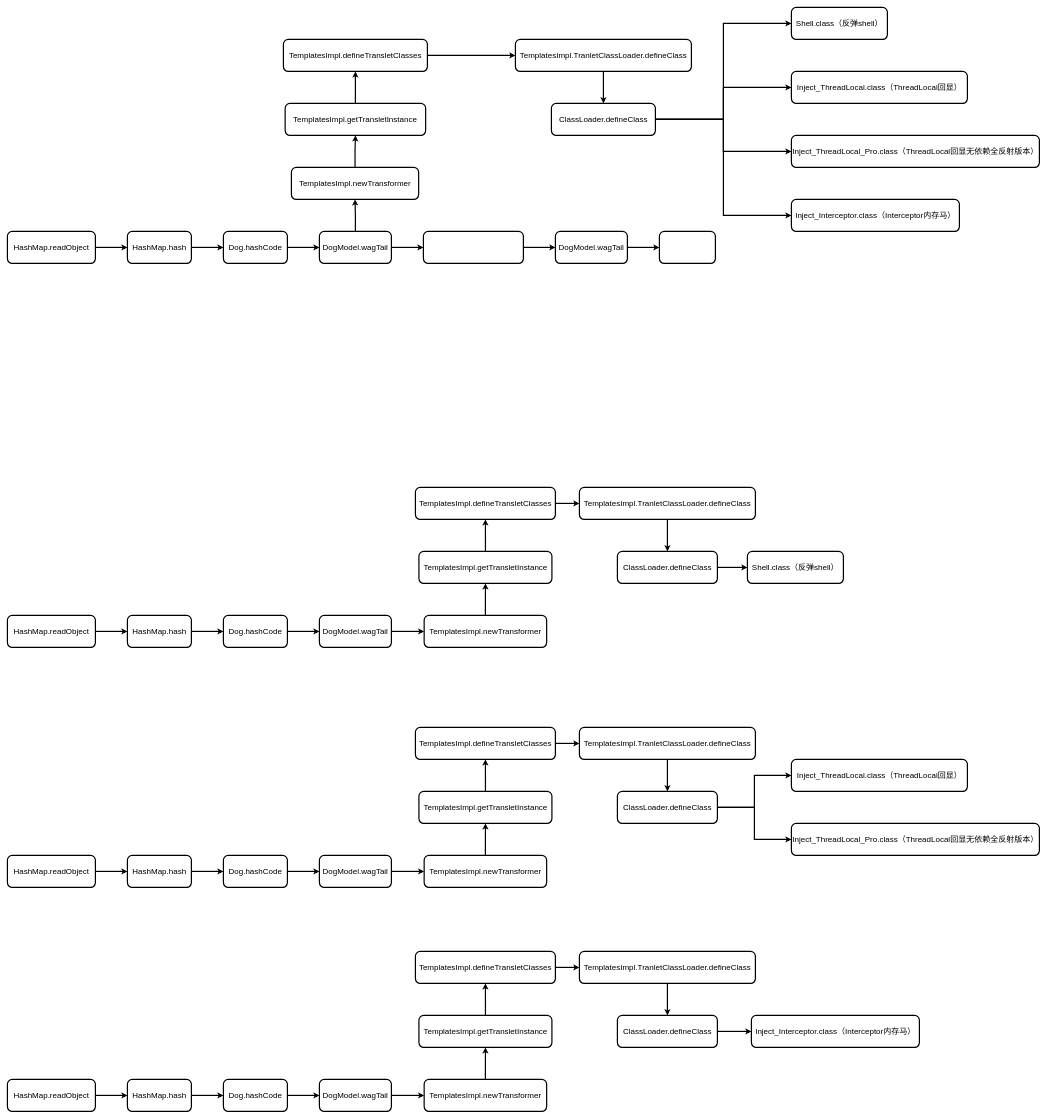
Some shapes in this 1047 by 1119 pixel diagram are drawn without their labels. Here are the shapes that lost their labels. From the top down, the centre of each, then its label:
At (x=473, y=247): "DogService.chainWagTail".
At (x=687, y=247): "Runtime.exec".
